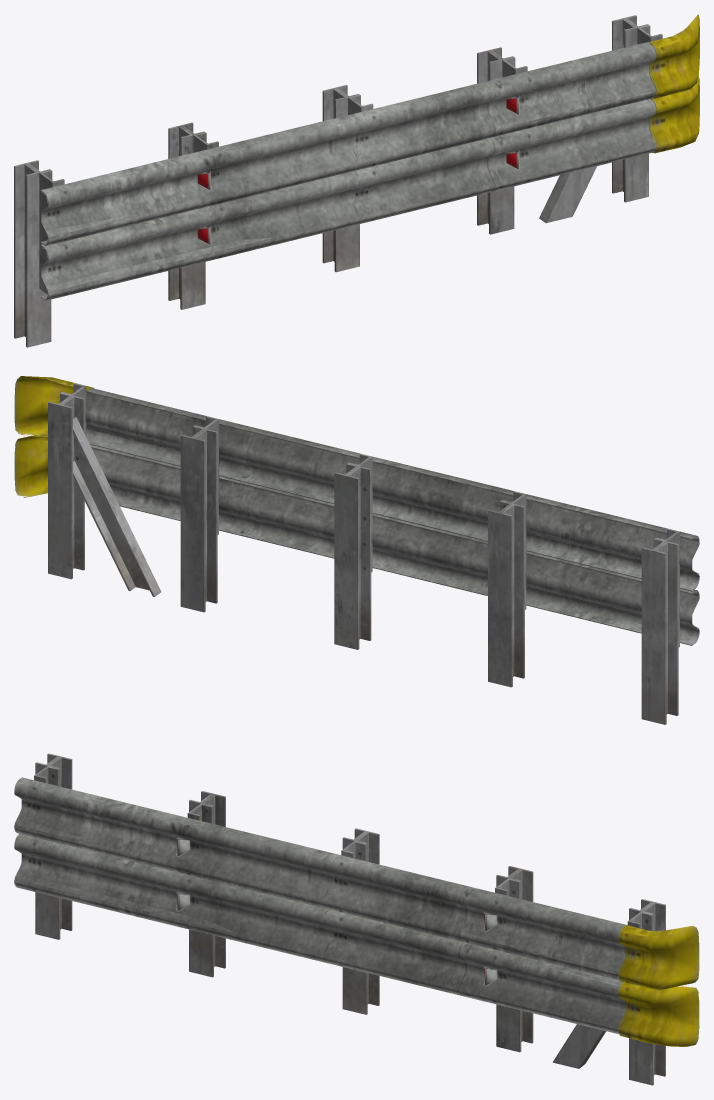
The model's file is guardrail_and_terminal.glb.
3 views of the same model, one above another, from view 1: azimuth 30°, elevation 25°; view 2: azimuth 150°, elevation 25°; view 3: azimuth 330°, elevation 25° (orthographic).
Visible parts, largest first — view 1: guardrail_and_terminal.001; view 2: guardrail_and_terminal.001; view 3: guardrail_and_terminal.001.
Part boxes in pixels (left/top/right/bottom): guardrail_and_terminal.001: left=14, top=14, right=699, bottom=347; guardrail_and_terminal.001: left=14, top=376, right=699, bottom=724; guardrail_and_terminal.001: left=14, top=753, right=699, bottom=1085.
Bounding box in the file's own units: 4.34 × 1.1 × 0.3989.
Materials: 1 (1 with a texture image).
